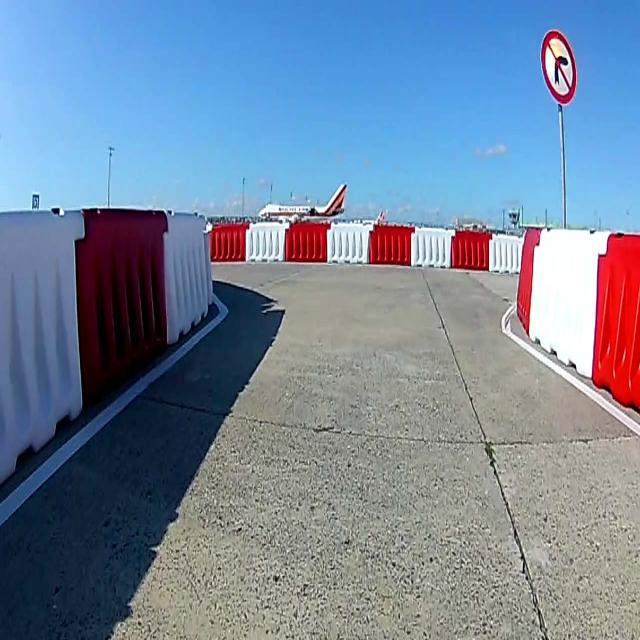sagadonulmez: (542, 31, 576, 103)
